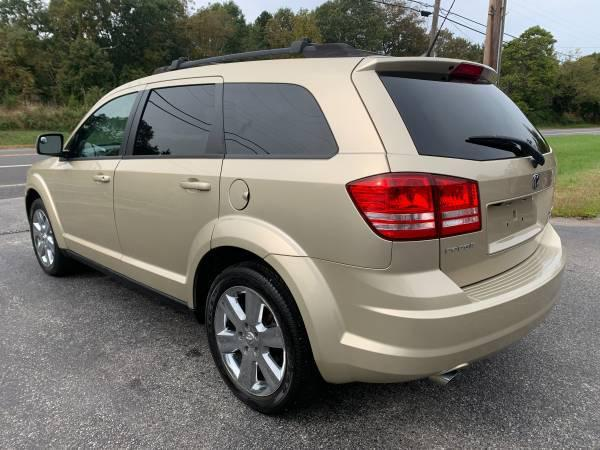Front_Fender: (23, 155, 63, 247)
Front_Left_Door: (53, 153, 122, 269)
Front_Left_Window: (61, 84, 147, 158)
Left_Taillight: (347, 172, 483, 240)
Rear_Bumper: (266, 224, 567, 383)
Rear_Fender: (212, 80, 393, 271)
Rear_Left_Door: (114, 156, 221, 310)
Rear_Left_Window: (121, 80, 223, 161)
Rear_Windshield: (381, 73, 554, 163)
Roof: (83, 54, 495, 153)
Tailgate: (388, 151, 556, 287)
Wheel: (198, 262, 312, 409), (29, 196, 60, 272)
